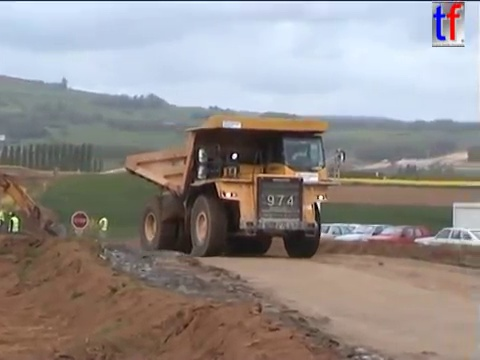truck: (122, 112, 347, 260)
worker: (6, 209, 19, 244), (96, 211, 109, 242), (1, 207, 5, 233)
